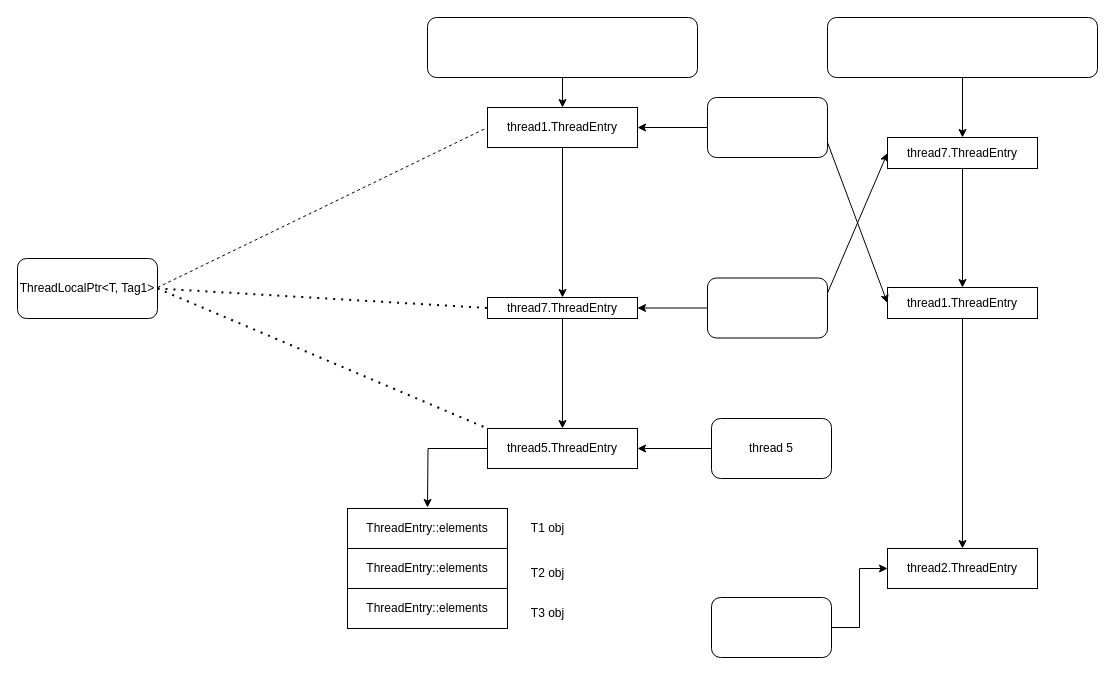
The diagram is 1115 pixels wide and 675 high, and some of its shapes have lost their labels. Here are the shapes that lost their labels. From the top down, the centre of each, then its label:
point 562,47: StaticMeta<Tag1, AccessMode> StaticMeta
point 962,47: StaticMeta<Tag2, AccessMode> StaticMeta
point 767,127: thread 1
point 767,307: thread 7
point 771,627: thread 2
